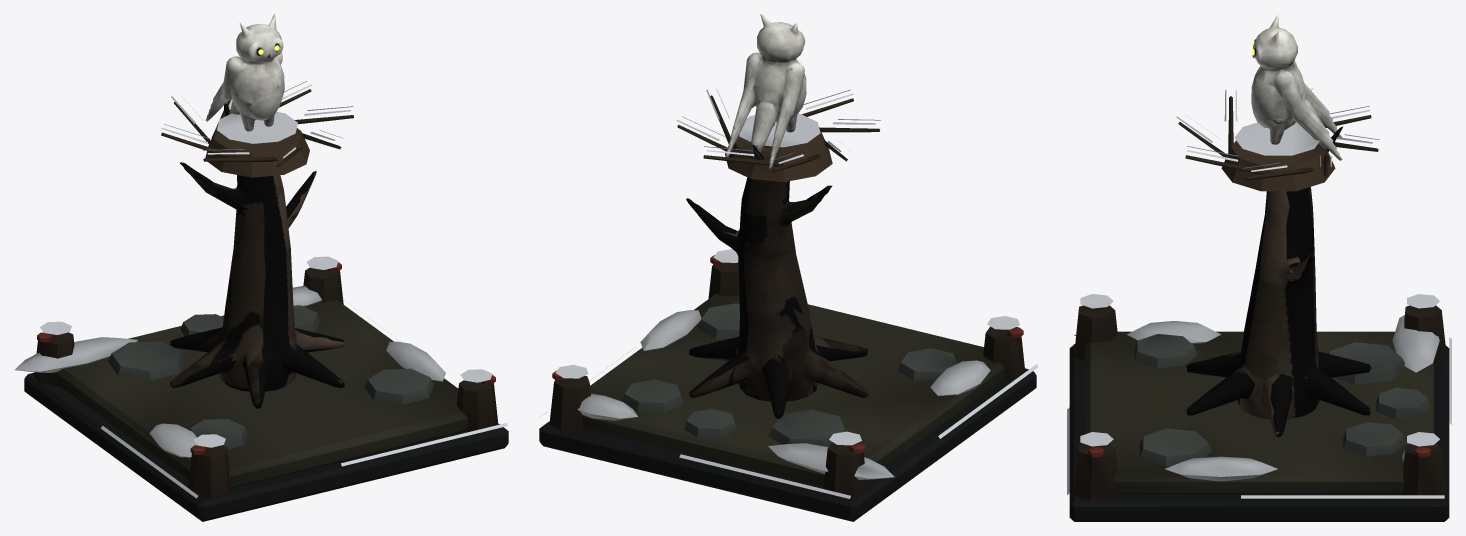
The model's file is sylvestres-4.glb.
3 views of the same model, side by side, from view 1: azimuth 30°, elevation 25°; view 2: azimuth 150°, elevation 25°; view 3: azimuth 270°, elevation 25° (orthographic). The views are drawn at different scales.
Parts seen in each view (by area): view 1: lunebois_4_architecture, lunebois_4_chicot, lunebois_4_chouette; view 2: lunebois_4_architecture, lunebois_4_chicot, lunebois_4_chouette; view 3: lunebois_4_architecture, lunebois_4_chicot, lunebois_4_chouette.
Part boxes in pixels (<box>): lunebois_4_architecture: <box>14,81,508,521</box>; lunebois_4_chicot: <box>169,103,344,408</box>; lunebois_4_chouette: <box>205,14,284,131</box>; lunebois_4_architecture: <box>539,88,1038,521</box>; lunebois_4_chicot: <box>686,145,868,418</box>; lunebois_4_chouette: <box>725,14,806,168</box>; lunebois_4_architecture: <box>1067,88,1451,521</box>; lunebois_4_chicot: <box>1186,126,1370,437</box>; lunebois_4_chouette: <box>1251,14,1342,160</box>.
Bounding box in the file's own units: 0.8655 × 0.9779 × 0.811.
4 materials, 2 textured.
